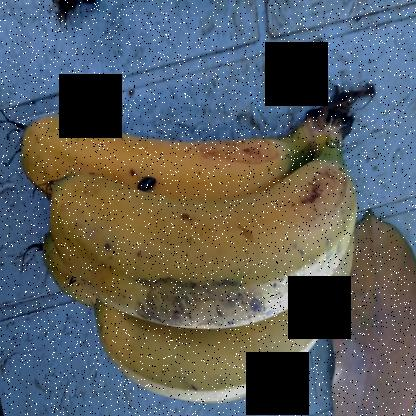ripe: (42, 157, 356, 358)
